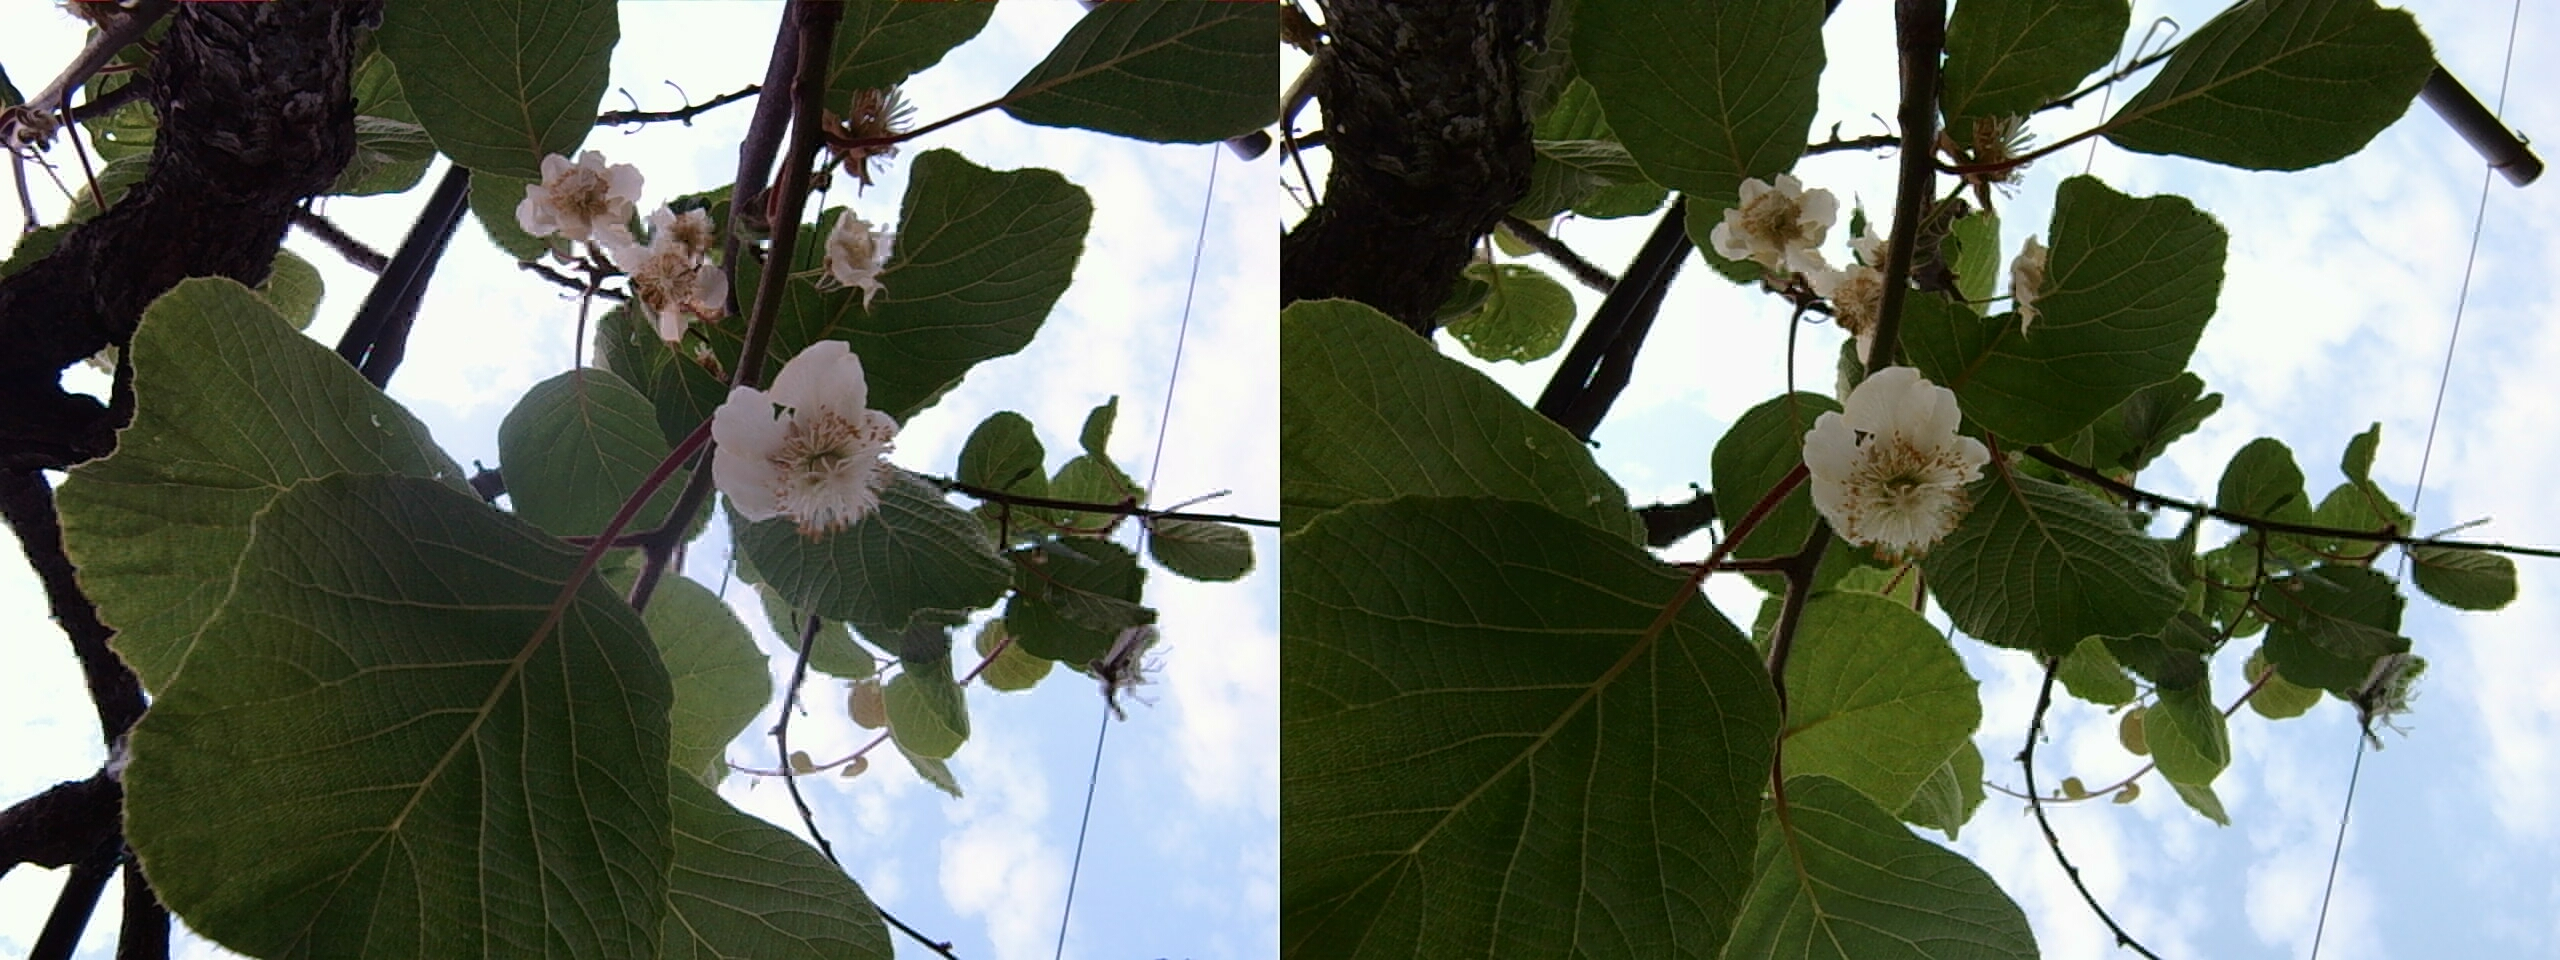flower: (709, 336, 904, 539), (1789, 362, 1992, 557), (584, 201, 723, 328), (522, 149, 648, 261)
